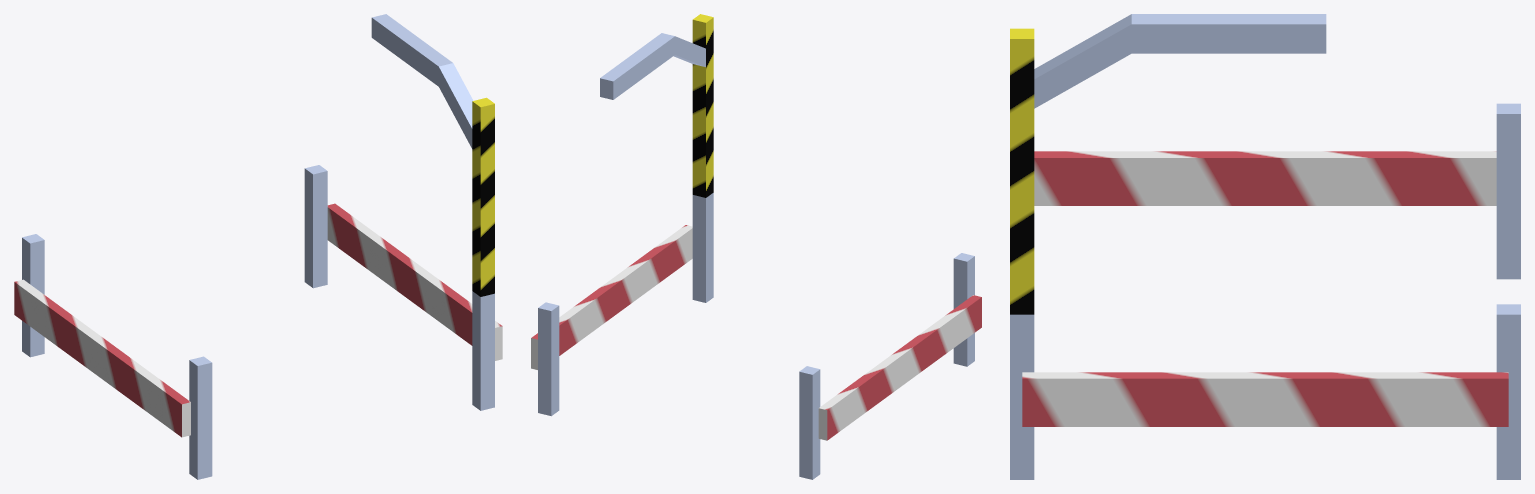
File: Parada.fbx
3 views of the same model, side by side, from view 1: azimuth 30°, elevation 25°; view 2: azimuth 150°, elevation 25°; view 3: azimuth 270°, elevation 25° (orthographic). The views are drawn at different scales.
Visible parts, largest first — view 1: Parada; view 2: Parada; view 3: Parada.
Boxes of the visible parts, box(x1,y1,x2,y2) form: Parada: box(14, 14, 502, 479); Parada: box(531, 14, 981, 479); Parada: box(1010, 14, 1520, 479).
Size of the model in its own units: 885 by 827 by 840.
